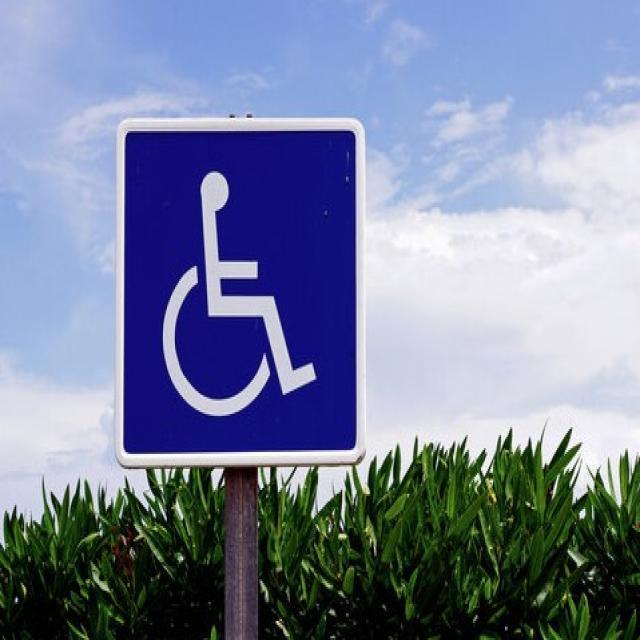symbol_of_access: (111, 116, 366, 466)
